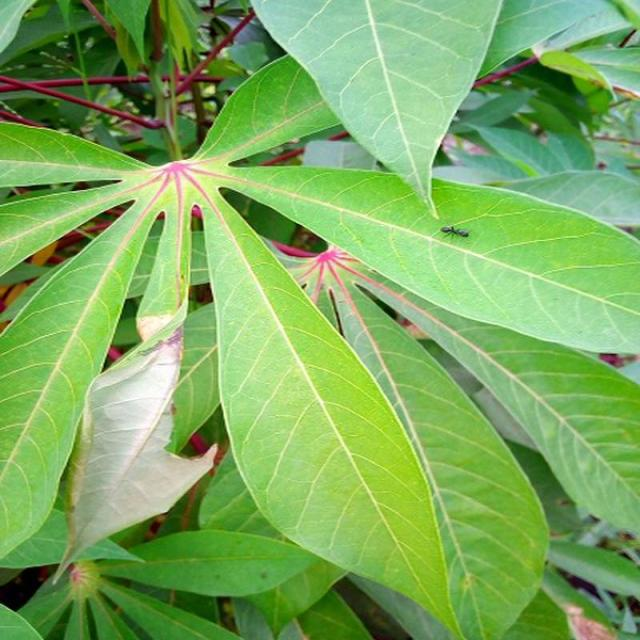cassava leaf: (1, 4, 638, 637), (194, 176, 464, 636), (249, 0, 504, 219)
